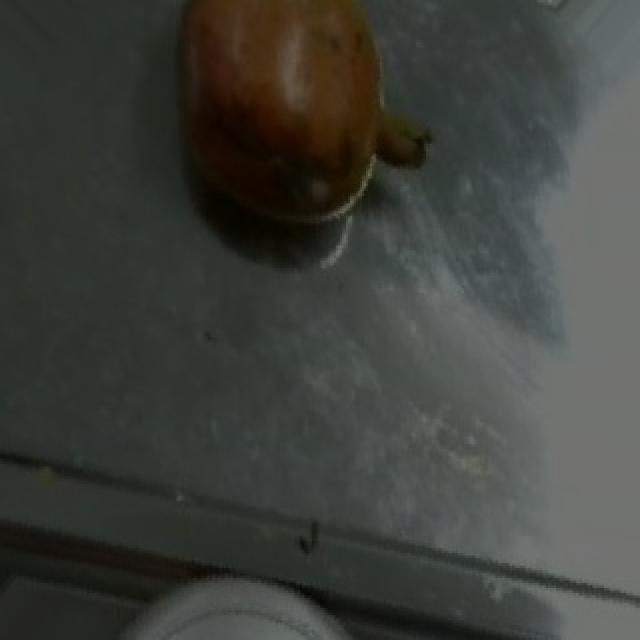fruit: (144, 0, 444, 256)
